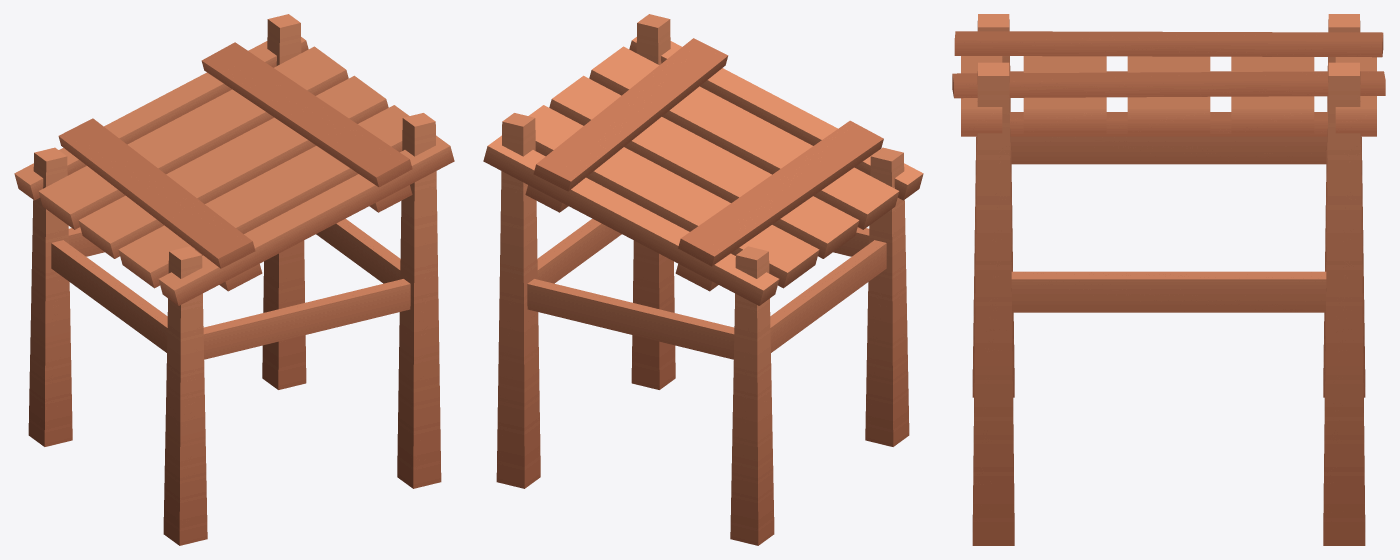
Rendered from structure-roof.glb.
The picture shows the model from 3 angles, left to right: view 1: azimuth 30°, elevation 25°; view 2: azimuth 150°, elevation 25°; view 3: azimuth 270°, elevation 25°; orthographic projection. The views are drawn at different scales.
Parts seen in each view (by area): view 1: structure-roof.001, structure-roof; view 2: structure-roof.001, structure-roof; view 3: structure-roof, structure-roof.001.
Part boxes in pixels (x1,y1,x2,y2): structure-roof.001: (14, 37, 454, 305); structure-roof: (28, 14, 441, 545); structure-roof.001: (483, 37, 923, 305); structure-roof: (496, 14, 909, 545); structure-roof: (972, 14, 1365, 545); structure-roof.001: (952, 31, 1385, 136).
Bounding box in the file's own units: 2.7 × 3.31 × 2.78.
1 material, 1 textured.
